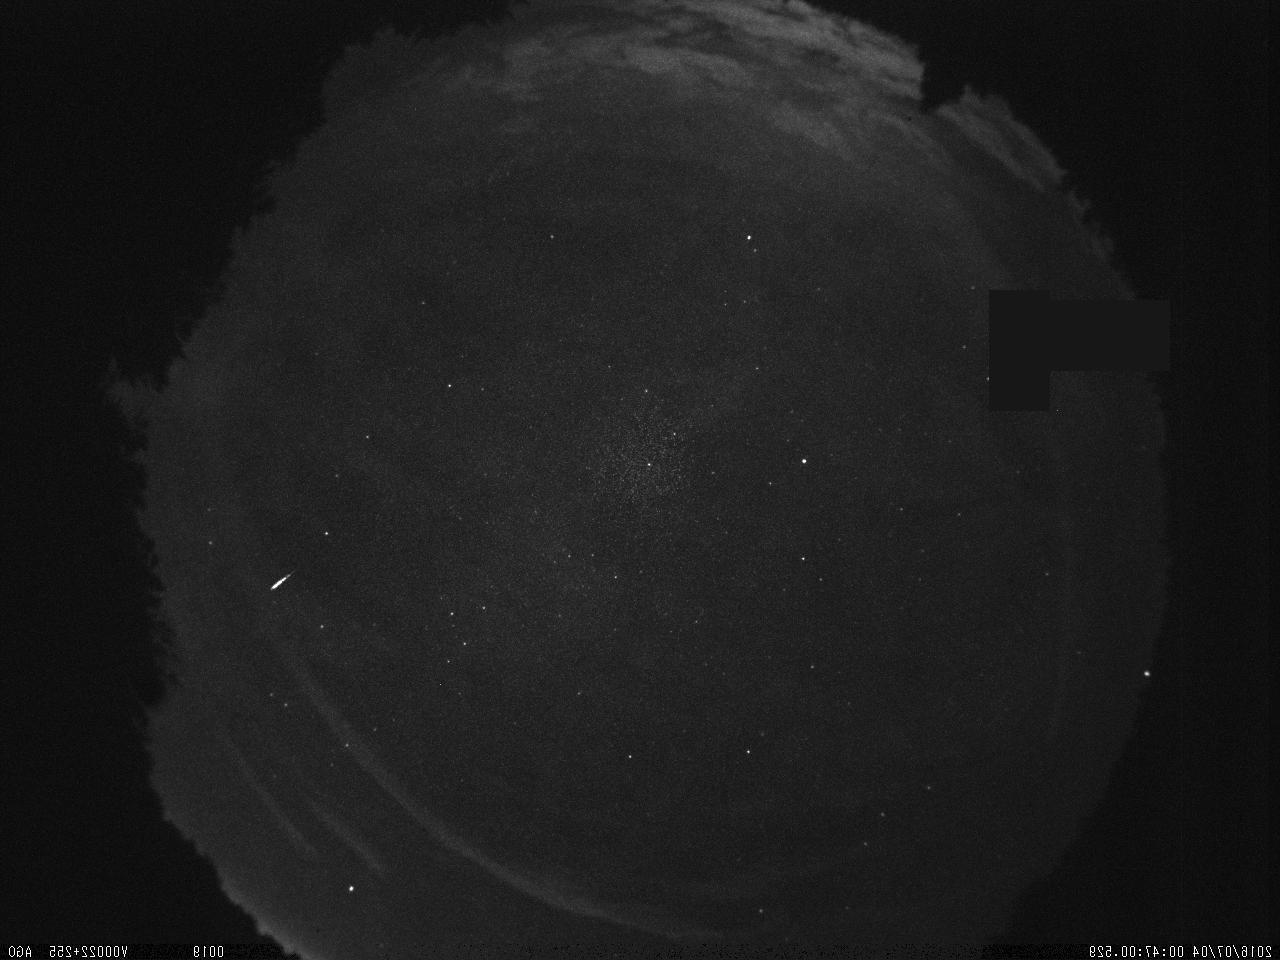meteor: (253, 557, 309, 610)
